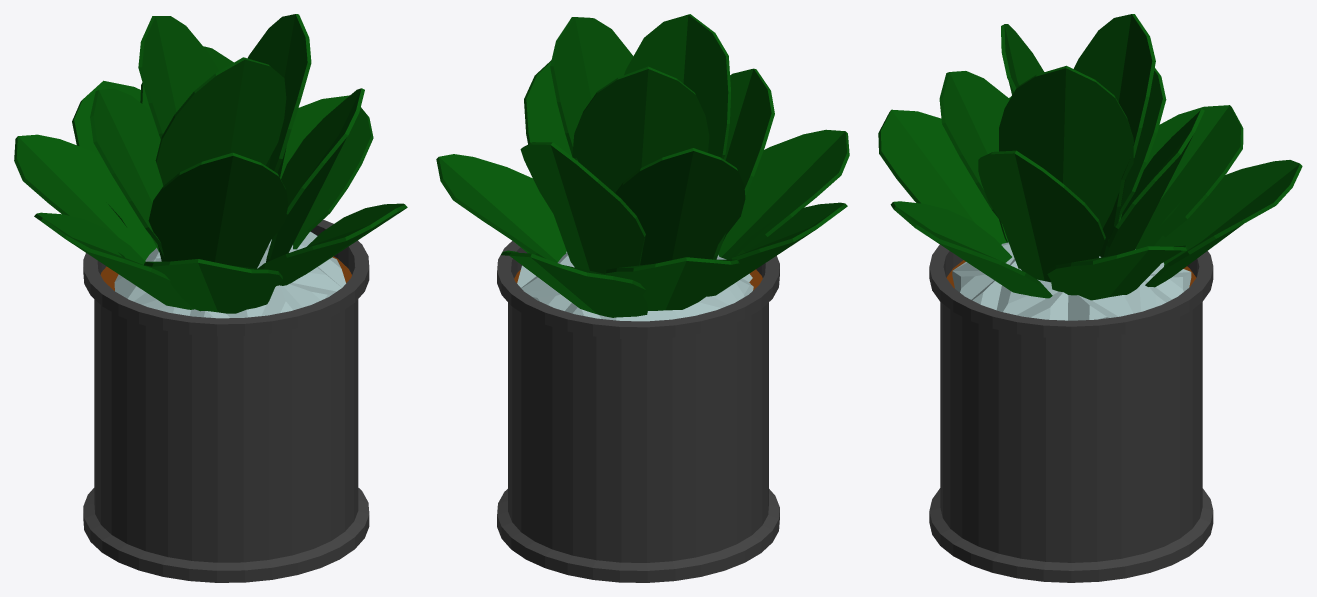
File: CPI441_Fur_PlantV2_O2_V4.fbx
3 renders of one model, left to right at view 1: azimuth 30°, elevation 25°; view 2: azimuth 150°, elevation 25°; view 3: azimuth 270°, elevation 25°, orthographic.
Parts seen in each view (by area): view 1: Cylinder; view 2: Cylinder; view 3: Cylinder.
Part boxes in pixels (x1,y1,x2,y2): Cylinder: (14, 14, 407, 582); Cylinder: (436, 14, 849, 582); Cylinder: (878, 14, 1302, 582).
Size of the model in its own units: 227 by 297 by 233.
